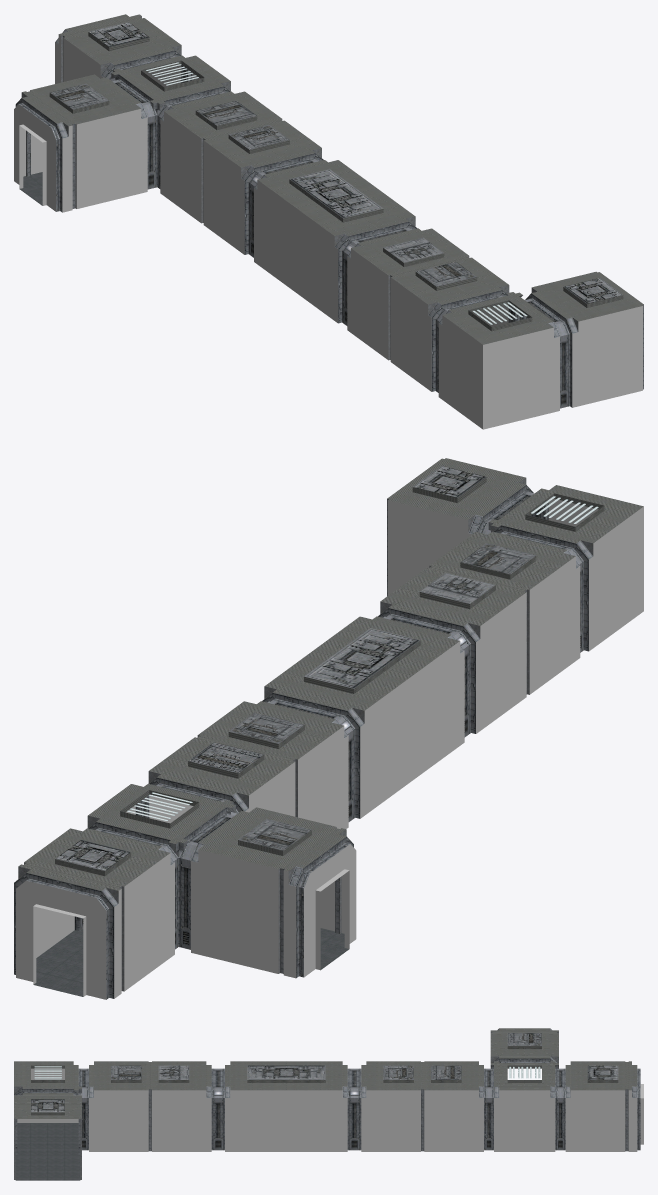
Rendered from poi_all_impl_bunker_warren_s01_r39_hall39_mesh_39.fbx.
3 views of the same model, one above another, from view 1: azimuth 30°, elevation 25°; view 2: azimuth 150°, elevation 25°; view 3: azimuth 270°, elevation 25° (orthographic). The views are drawn at different scales.
Parts seen in each view (by area): view 1: mesh_node; view 2: mesh_node; view 3: mesh_node.
Part boxes in pixels (x1=…): mesh_node: x1=14, y1=14, x2=643, y2=429; mesh_node: x1=14, y1=458, x2=643, y2=999; mesh_node: x1=14, y1=1028, x2=643, y2=1180.
Size of the model in its own units: 13 by 4.2 by 37.
